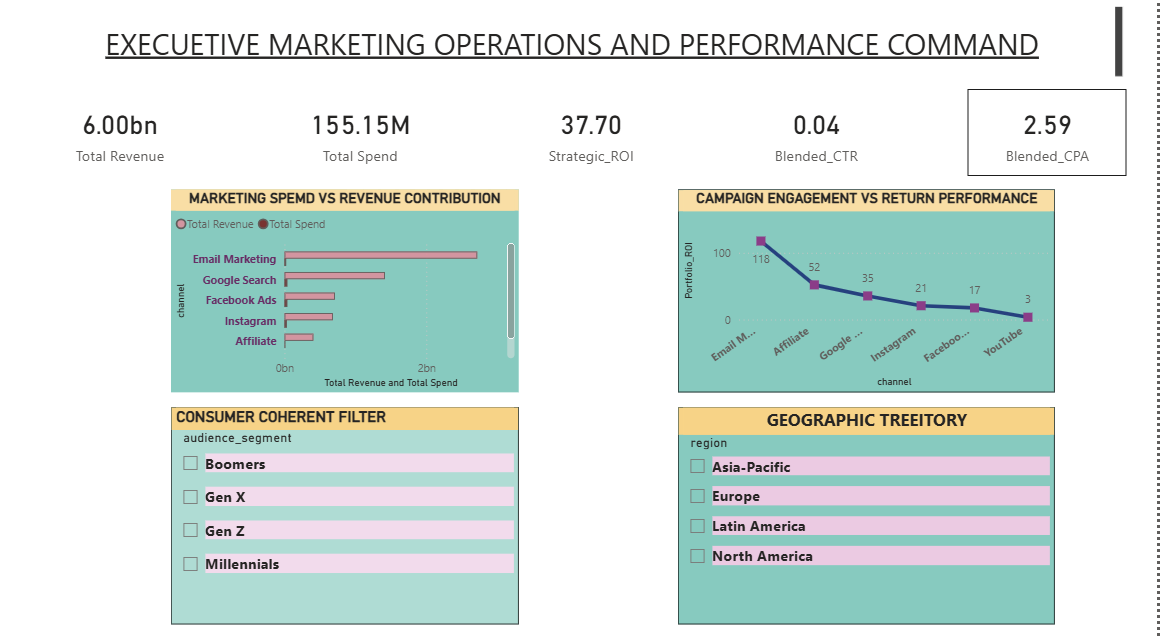

The dashboard page shown, as its layout file describes it:
{"tool":"powerbi","page":{"name":"Page 1","canvas":[1280,720],"ordinal":0},"visuals":[{"type":"card","fields":{"Values":["marketing_campaigns_20k.Total Revenue"]},"box":[32,112,208,96],"z":0},{"type":"card","fields":{"Values":["marketing_campaigns_20k.Total Spend"]},"box":[304,112,192,96],"z":1000},{"type":"card","fields":{"Values":["marketing_campaigns_20k.Strategic_ROI"]},"box":[560,112,192,96],"z":2000},{"type":"card","fields":{"Values":["marketing_campaigns_20k.Blended_CTR"]},"box":[816,112,176,96],"z":3000},{"type":"card","fields":{"Values":["marketing_campaigns_20k.Blended_CPA"]},"box":[1072,112,176,96],"z":4000},{"type":"clusteredBarChart","title":"MARKETING SPEMD VS REVENUE CONTRIBUTION","fields":{"Category":["marketing_campaigns_20k.channel"],"Y":["marketing_campaigns_20k.Total Revenue","marketing_campaigns_20k.Total Spend"]},"box":[192,224,384,224],"z":5000},{"type":"lineChart","title":"CAMPAIGN  ENGAGEMENT VS RETURN PERFORMANCE","fields":{"Category":["marketing_campaigns_20k.channel"],"Y":["marketing_campaigns_20k.Portfolio_ROI"]},"box":[752,224,416,224],"z":6000},{"type":"slicer","title":"CONSUMER COHERENT FILTER","fields":{"Values":["marketing_campaigns_20k.audience_segment"]},"box":[192,464,384,240],"z":7000},{"type":"slicer","title":"GEOGRAPHIC TREEITORY","fields":{"Values":["marketing_campaigns_20k.region"]},"box":[752,464,416,240],"z":8000},{"type":"textbox","box":[32,16,1216,96],"z":9000}]}

Visuals, with their boxes in screenshot pixels (x1, y1, x2, y2), scaled from the page's 1280x720 canvas onto the 1163x636 screenshot:
card - marketing_campaigns_20k.Total Revenue: bbox=(29, 99, 218, 184)
card - marketing_campaigns_20k.Total Spend: bbox=(276, 99, 451, 184)
card - marketing_campaigns_20k.Strategic_ROI: bbox=(509, 99, 683, 184)
card - marketing_campaigns_20k.Blended_CTR: bbox=(741, 99, 901, 184)
card - marketing_campaigns_20k.Blended_CPA: bbox=(974, 99, 1134, 184)
"MARKETING SPEMD VS REVENUE CONTRIBUTION" clusteredBarChart: bbox=(174, 198, 523, 396)
"CAMPAIGN  ENGAGEMENT VS RETURN PERFORMANCE" lineChart: bbox=(683, 198, 1061, 396)
"CONSUMER COHERENT FILTER" slicer: bbox=(174, 410, 523, 622)
"GEOGRAPHIC TREEITORY" slicer: bbox=(683, 410, 1061, 622)
textbox: bbox=(29, 14, 1134, 99)
